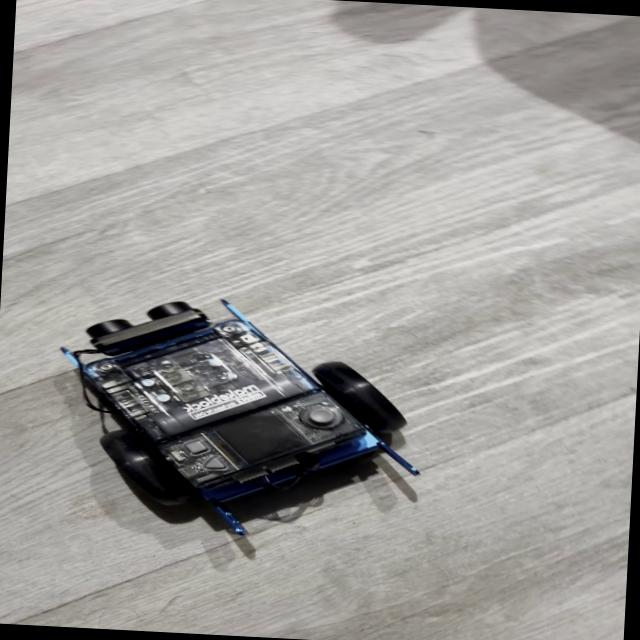mbot-detection: (32, 280, 454, 560)
